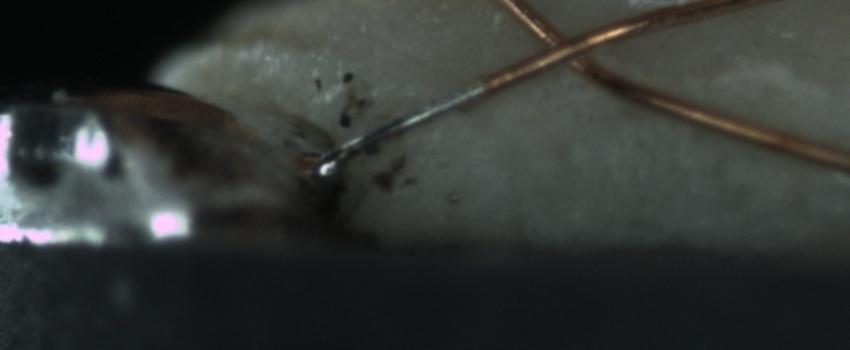CL: (521, 15, 618, 82)
TS: (306, 81, 490, 190)
